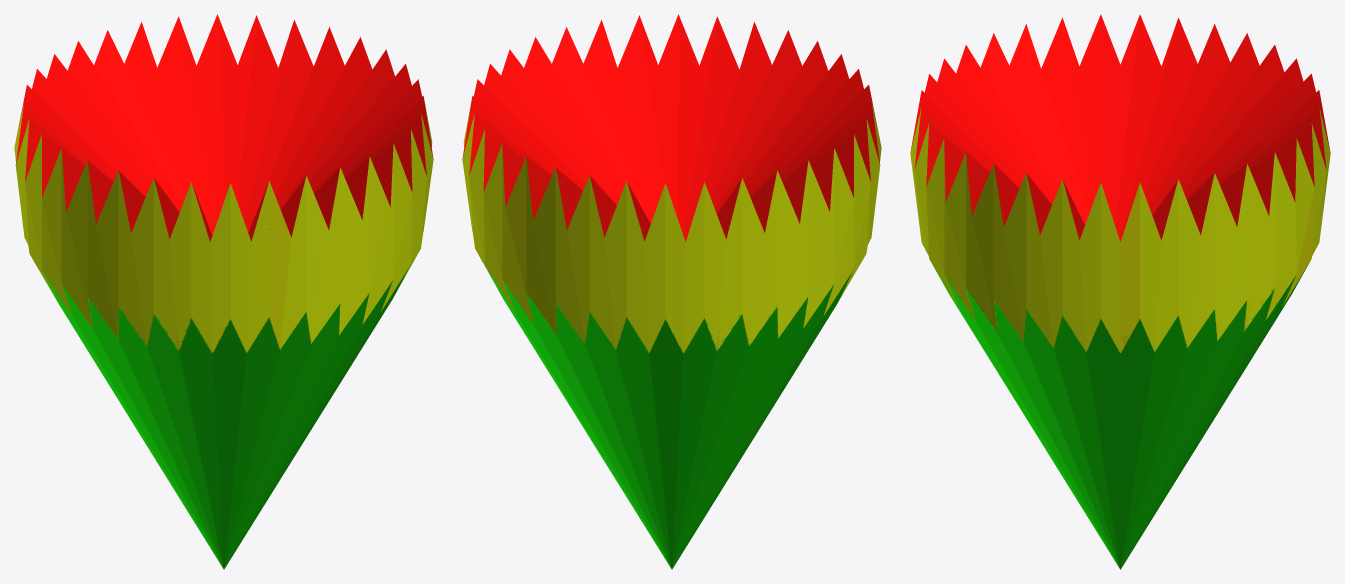
File: Flower1.fbx
3 renders of one model, left to right at view 1: azimuth 30°, elevation 25°; view 2: azimuth 150°, elevation 25°; view 3: azimuth 270°, elevation 25°, orthographic.
Parts seen in each view (by area): view 1: Cone; view 2: Cone; view 3: Cone.
Boxes of the visible parts, left/top/right/bottom form: Cone: left=14, top=14, right=433, bottom=569; Cone: left=462, top=14, right=881, bottom=569; Cone: left=910, top=14, right=1330, bottom=569.
Bounding box in the file's own units: 1.4 × 1.73 × 1.4.
1 material, 1 textured.
